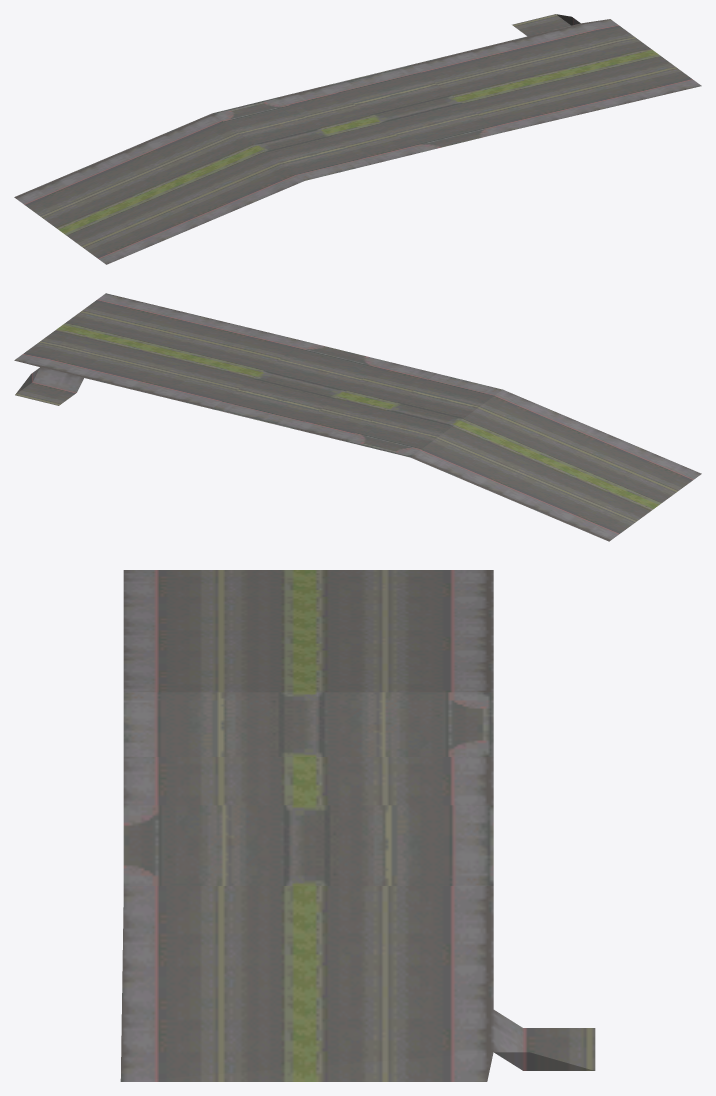
File: lodd21_sfe.obj
3 views of the same model, one above another, from view 1: azimuth 30°, elevation 25°; view 2: azimuth 150°, elevation 25°; view 3: azimuth 270°, elevation 25° (orthographic). The views are drawn at different scales.
Parts seen in each view (by area): view 1: LODd21_sfe; view 2: LODd21_sfe; view 3: LODd21_sfe.
Part boxes in pixels (x1=…): LODd21_sfe: x1=14, y1=14, x2=701, y2=264; LODd21_sfe: x1=14, y1=293, x2=701, y2=541; LODd21_sfe: x1=120, y1=570, x2=595, y2=1081.
Size of the model in its own units: 180 by 10.28 by 62.17.
Materials: 2 (2 with a texture image).
